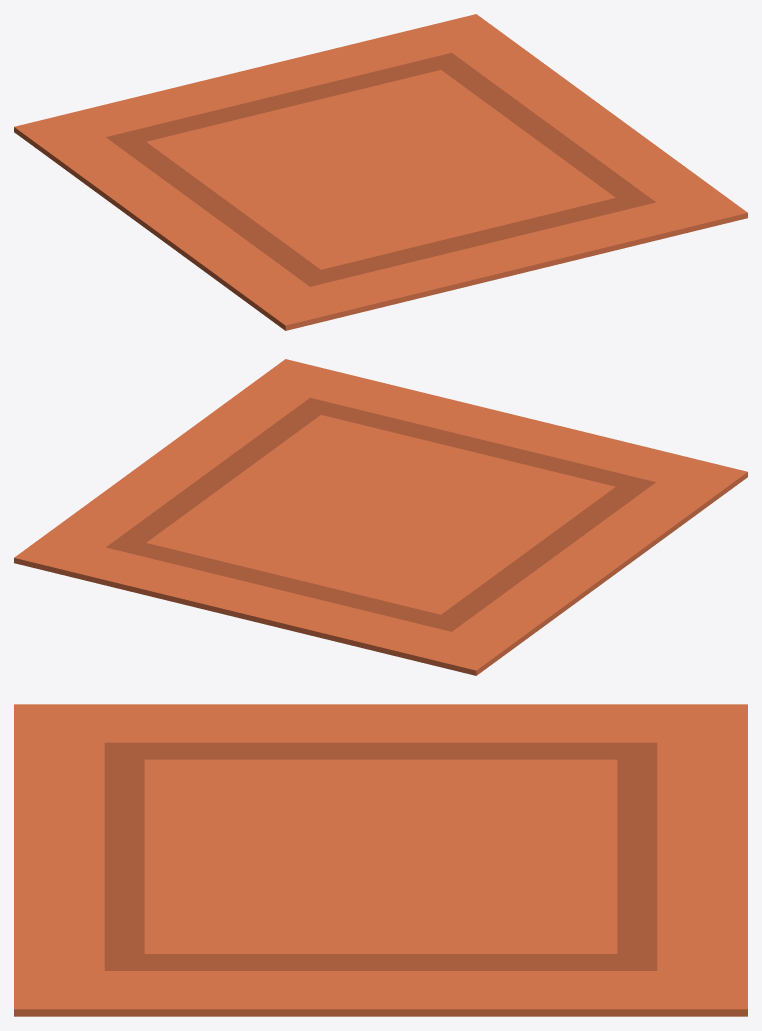
The model's file is rugSquare.glb.
The picture shows the model from 3 angles, top to bottom: view 1: azimuth 30°, elevation 25°; view 2: azimuth 150°, elevation 25°; view 3: azimuth 270°, elevation 25°; orthographic projection. The views are drawn at different scales.
Visible parts, largest first — view 1: rugSquare_carpet, rugSquare_carpetDarker; view 2: rugSquare_carpet, rugSquare_carpetDarker; view 3: rugSquare_carpet, rugSquare_carpetDarker.
Part boxes in pixels (bbox=[...]): rugSquare_carpet: bbox=[14, 14, 747, 330]; rugSquare_carpetDarker: bbox=[106, 52, 655, 286]; rugSquare_carpet: bbox=[14, 359, 747, 675]; rugSquare_carpetDarker: bbox=[106, 397, 655, 631]; rugSquare_carpet: bbox=[14, 704, 747, 1016]; rugSquare_carpetDarker: bbox=[104, 742, 657, 970].
Size of the model in its own units: 1.81 by 0.02 by 1.84.
